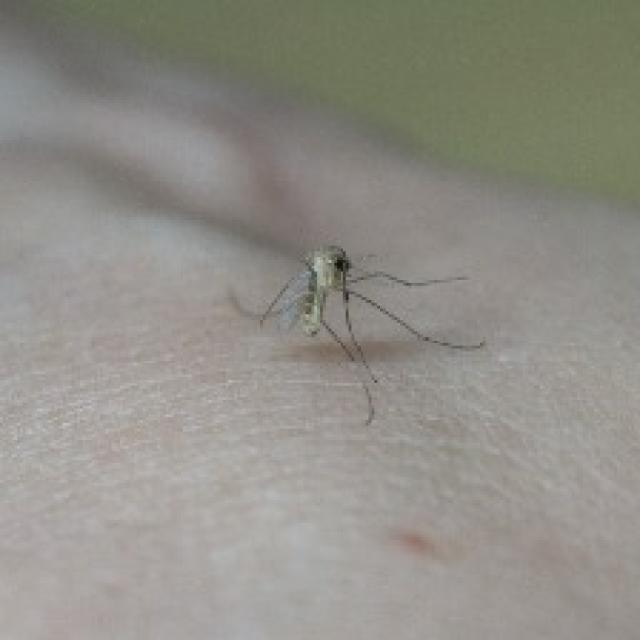culex: (234, 240, 486, 426)
